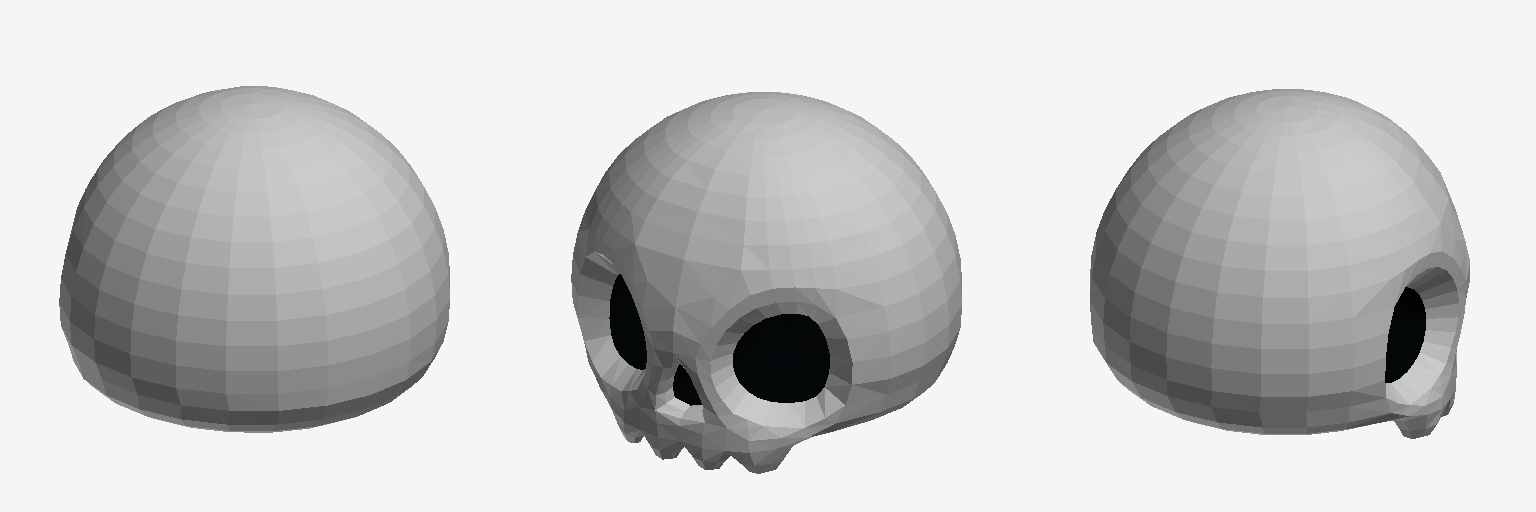
File: skull.obj
3 renders of one model, left to right at view 1: azimuth 30°, elevation 25°; view 2: azimuth 150°, elevation 25°; view 3: azimuth 270°, elevation 25°, orthographic.
Parts seen in each view (by area): view 1: skull_Cube.7714; view 2: skull_Cube.7714; view 3: skull_Cube.7714.
Boxes of the visible parts, x1,y1,x2,y2 form: skull_Cube.7714: [59, 86, 449, 432]; skull_Cube.7714: [571, 92, 961, 473]; skull_Cube.7714: [1090, 89, 1469, 438].
Bounding box in the file's own units: 0.9546 × 0.7938 × 0.9162.